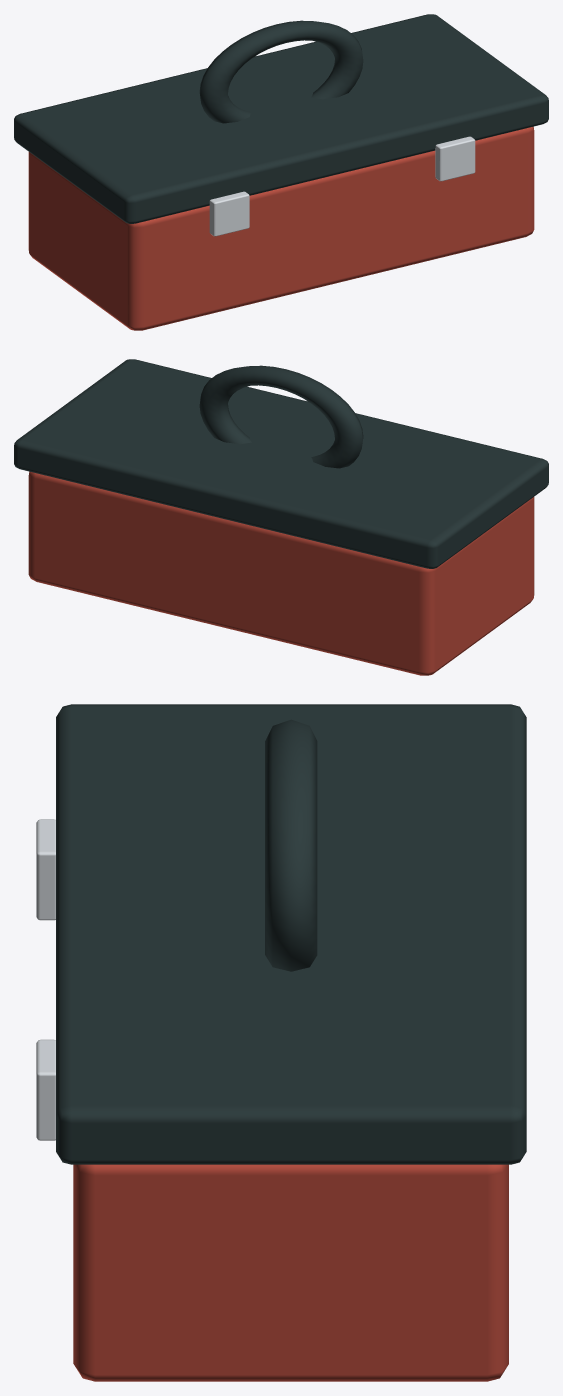
The model's file is wp-caisse-a-outils.glb.
3 views of the same model, one above another, from view 1: azimuth 30°, elevation 25°; view 2: azimuth 150°, elevation 25°; view 3: azimuth 270°, elevation 25° (orthographic). The views are drawn at different scales.
Visible parts, largest first — view 1: wp-caisse-a-outils; view 2: wp-caisse-a-outils; view 3: wp-caisse-a-outils.
Part boxes in pixels (bbox=[...]): wp-caisse-a-outils: bbox=[14, 14, 548, 330]; wp-caisse-a-outils: bbox=[14, 359, 548, 675]; wp-caisse-a-outils: bbox=[36, 704, 526, 1381].
Size of the model in its own units: 0.5 by 0.25 by 0.25.
